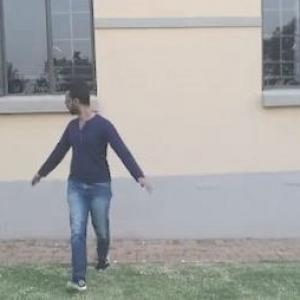land: (21, 82, 150, 292)
